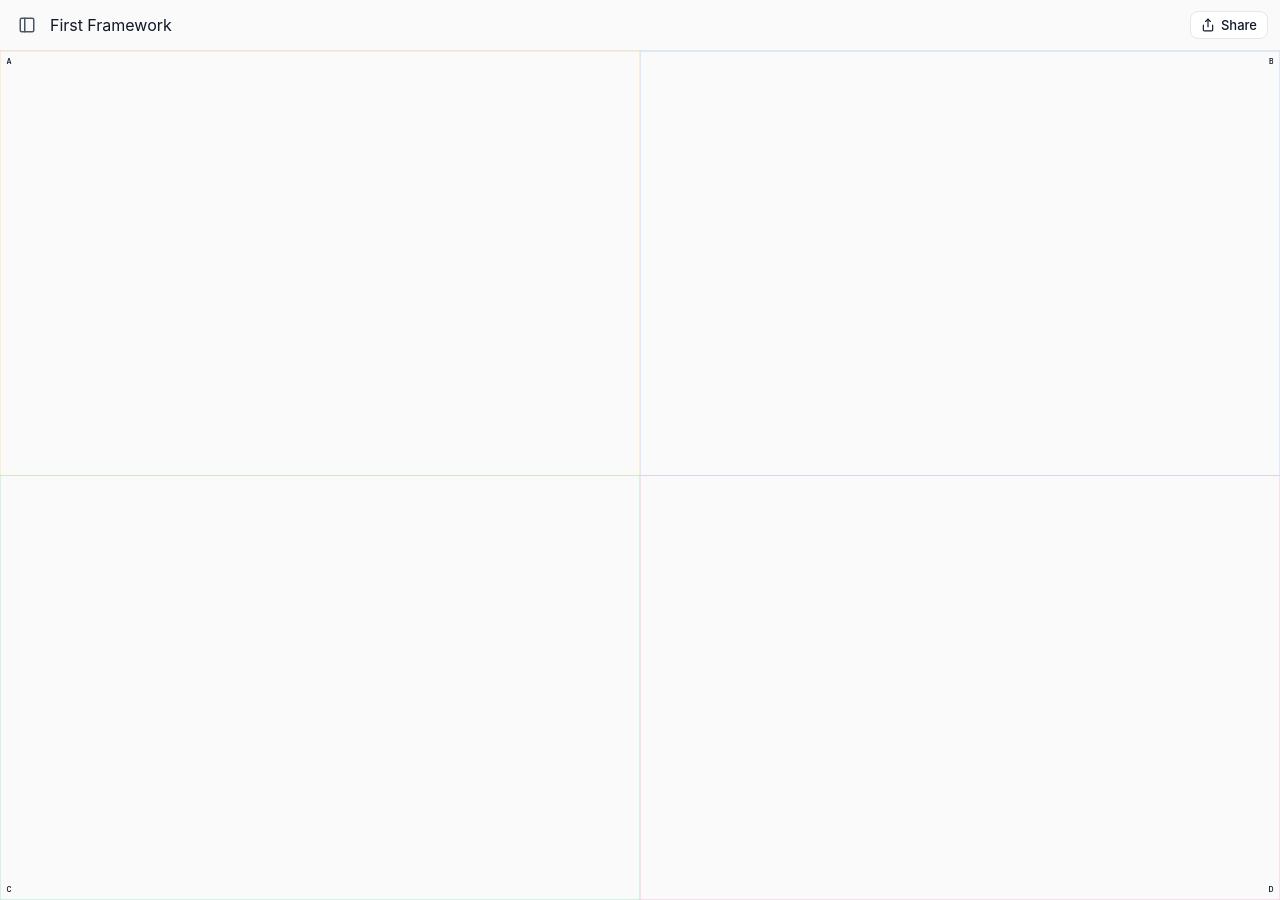
Scenario: App › mobile drawer dismissal on navigation (BUG-014) › dismisses the drawer when "New Framework" is chosen
Click the button named "open sidebar" at (27, 25), box [12, 10, 42, 40]
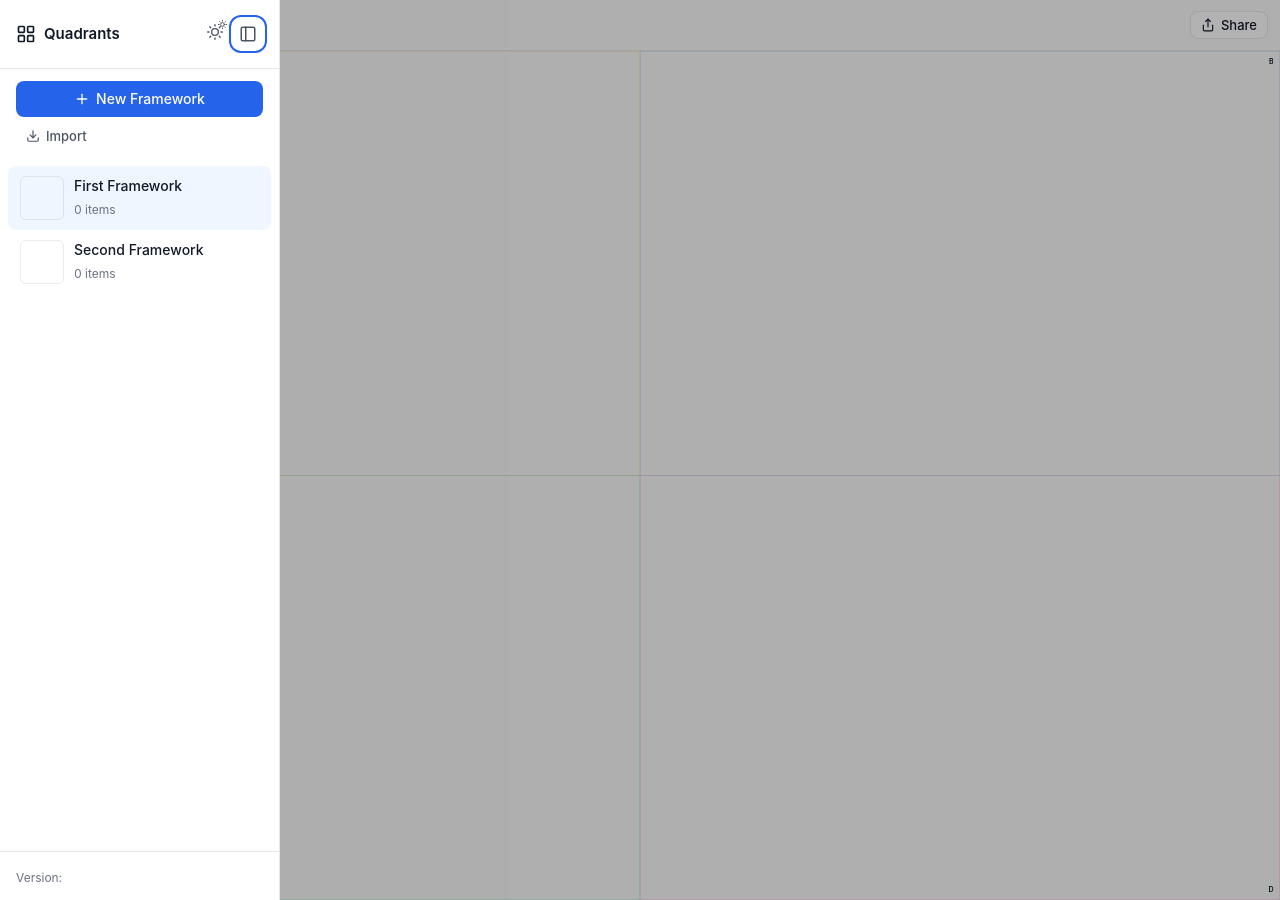
Click the button "New Framework" at (140, 99), box [16, 81, 263, 117]
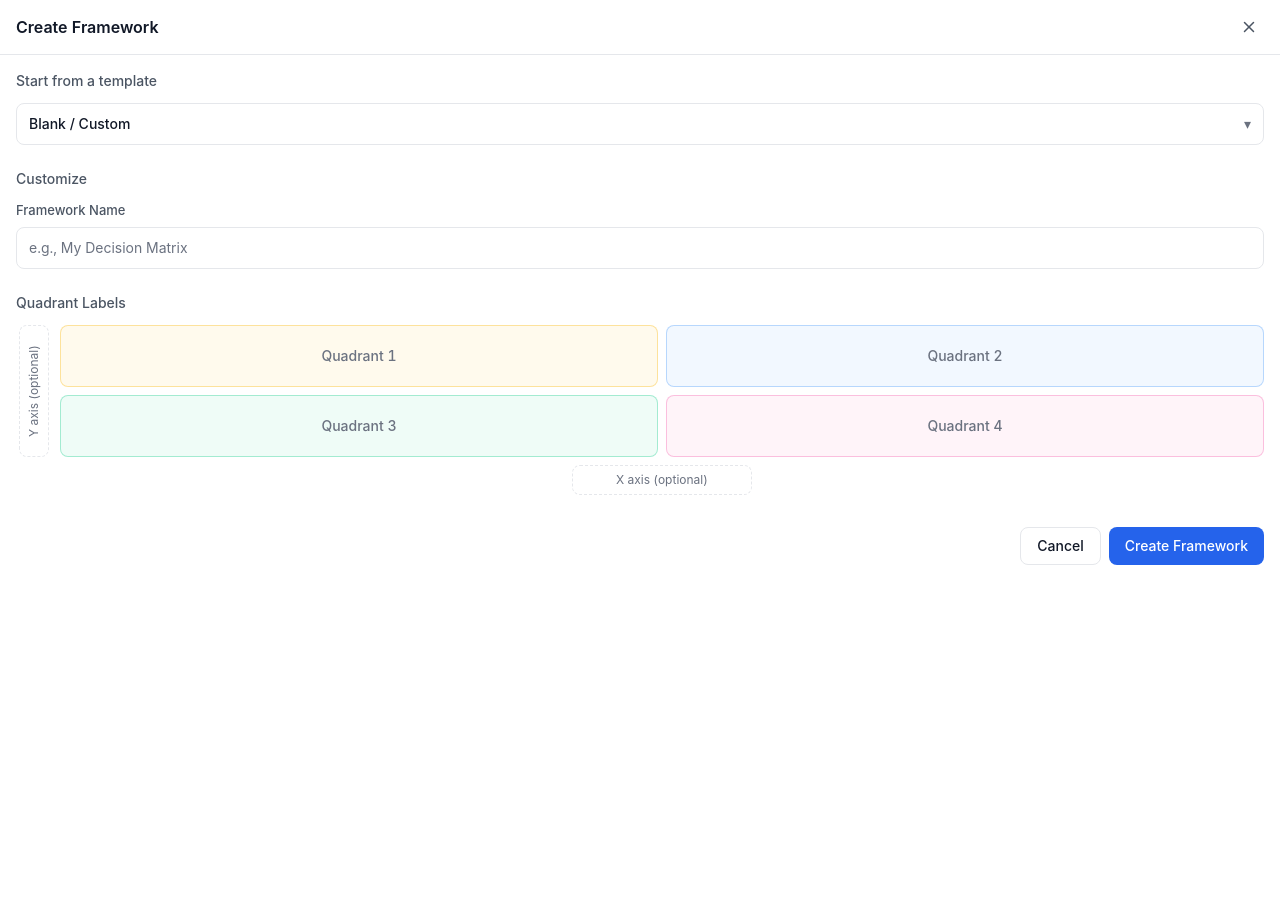
Result: the element with test id "sidebar-backdrop" is gone
Result: the heading "Create Framework" is shown at [16, 15, 158, 39]
